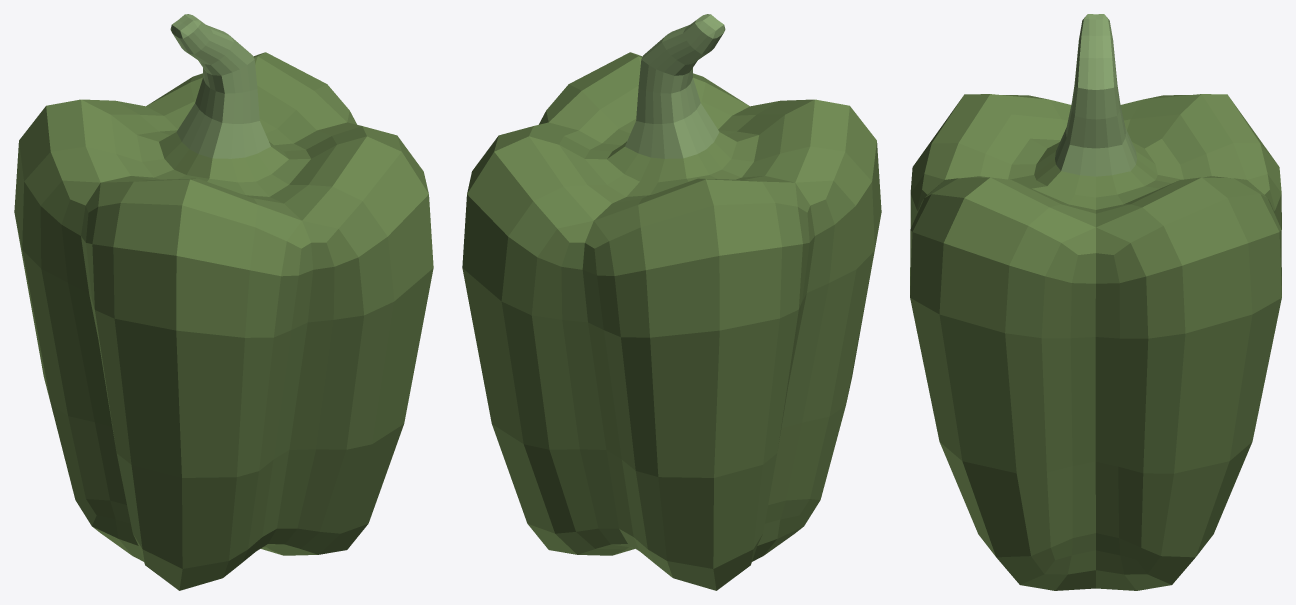
Rendered from pepper_green.glb.
3 views of the same model, side by side, from view 1: azimuth 30°, elevation 25°; view 2: azimuth 150°, elevation 25°; view 3: azimuth 270°, elevation 25° (orthographic). The views are drawn at different scales.
Parts seen in each view (by area): view 1: Pepper_Green; view 2: Pepper_Green; view 3: Pepper_Green.
Boxes of the visible parts, x1,y1,x2,y2 form: Pepper_Green: (14, 14, 433, 590); Pepper_Green: (462, 14, 881, 590); Pepper_Green: (910, 14, 1281, 590).
Bounding box in the file's own units: 0.674 × 1.12 × 0.7118.
